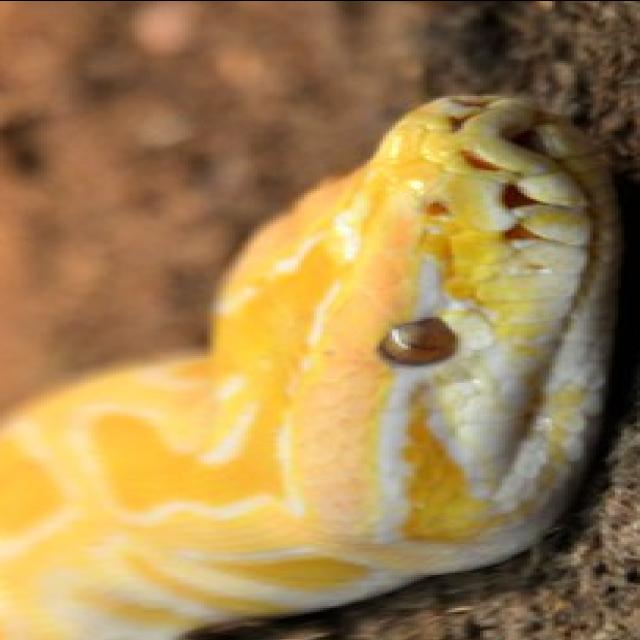Snake: (0, 91, 627, 640)
